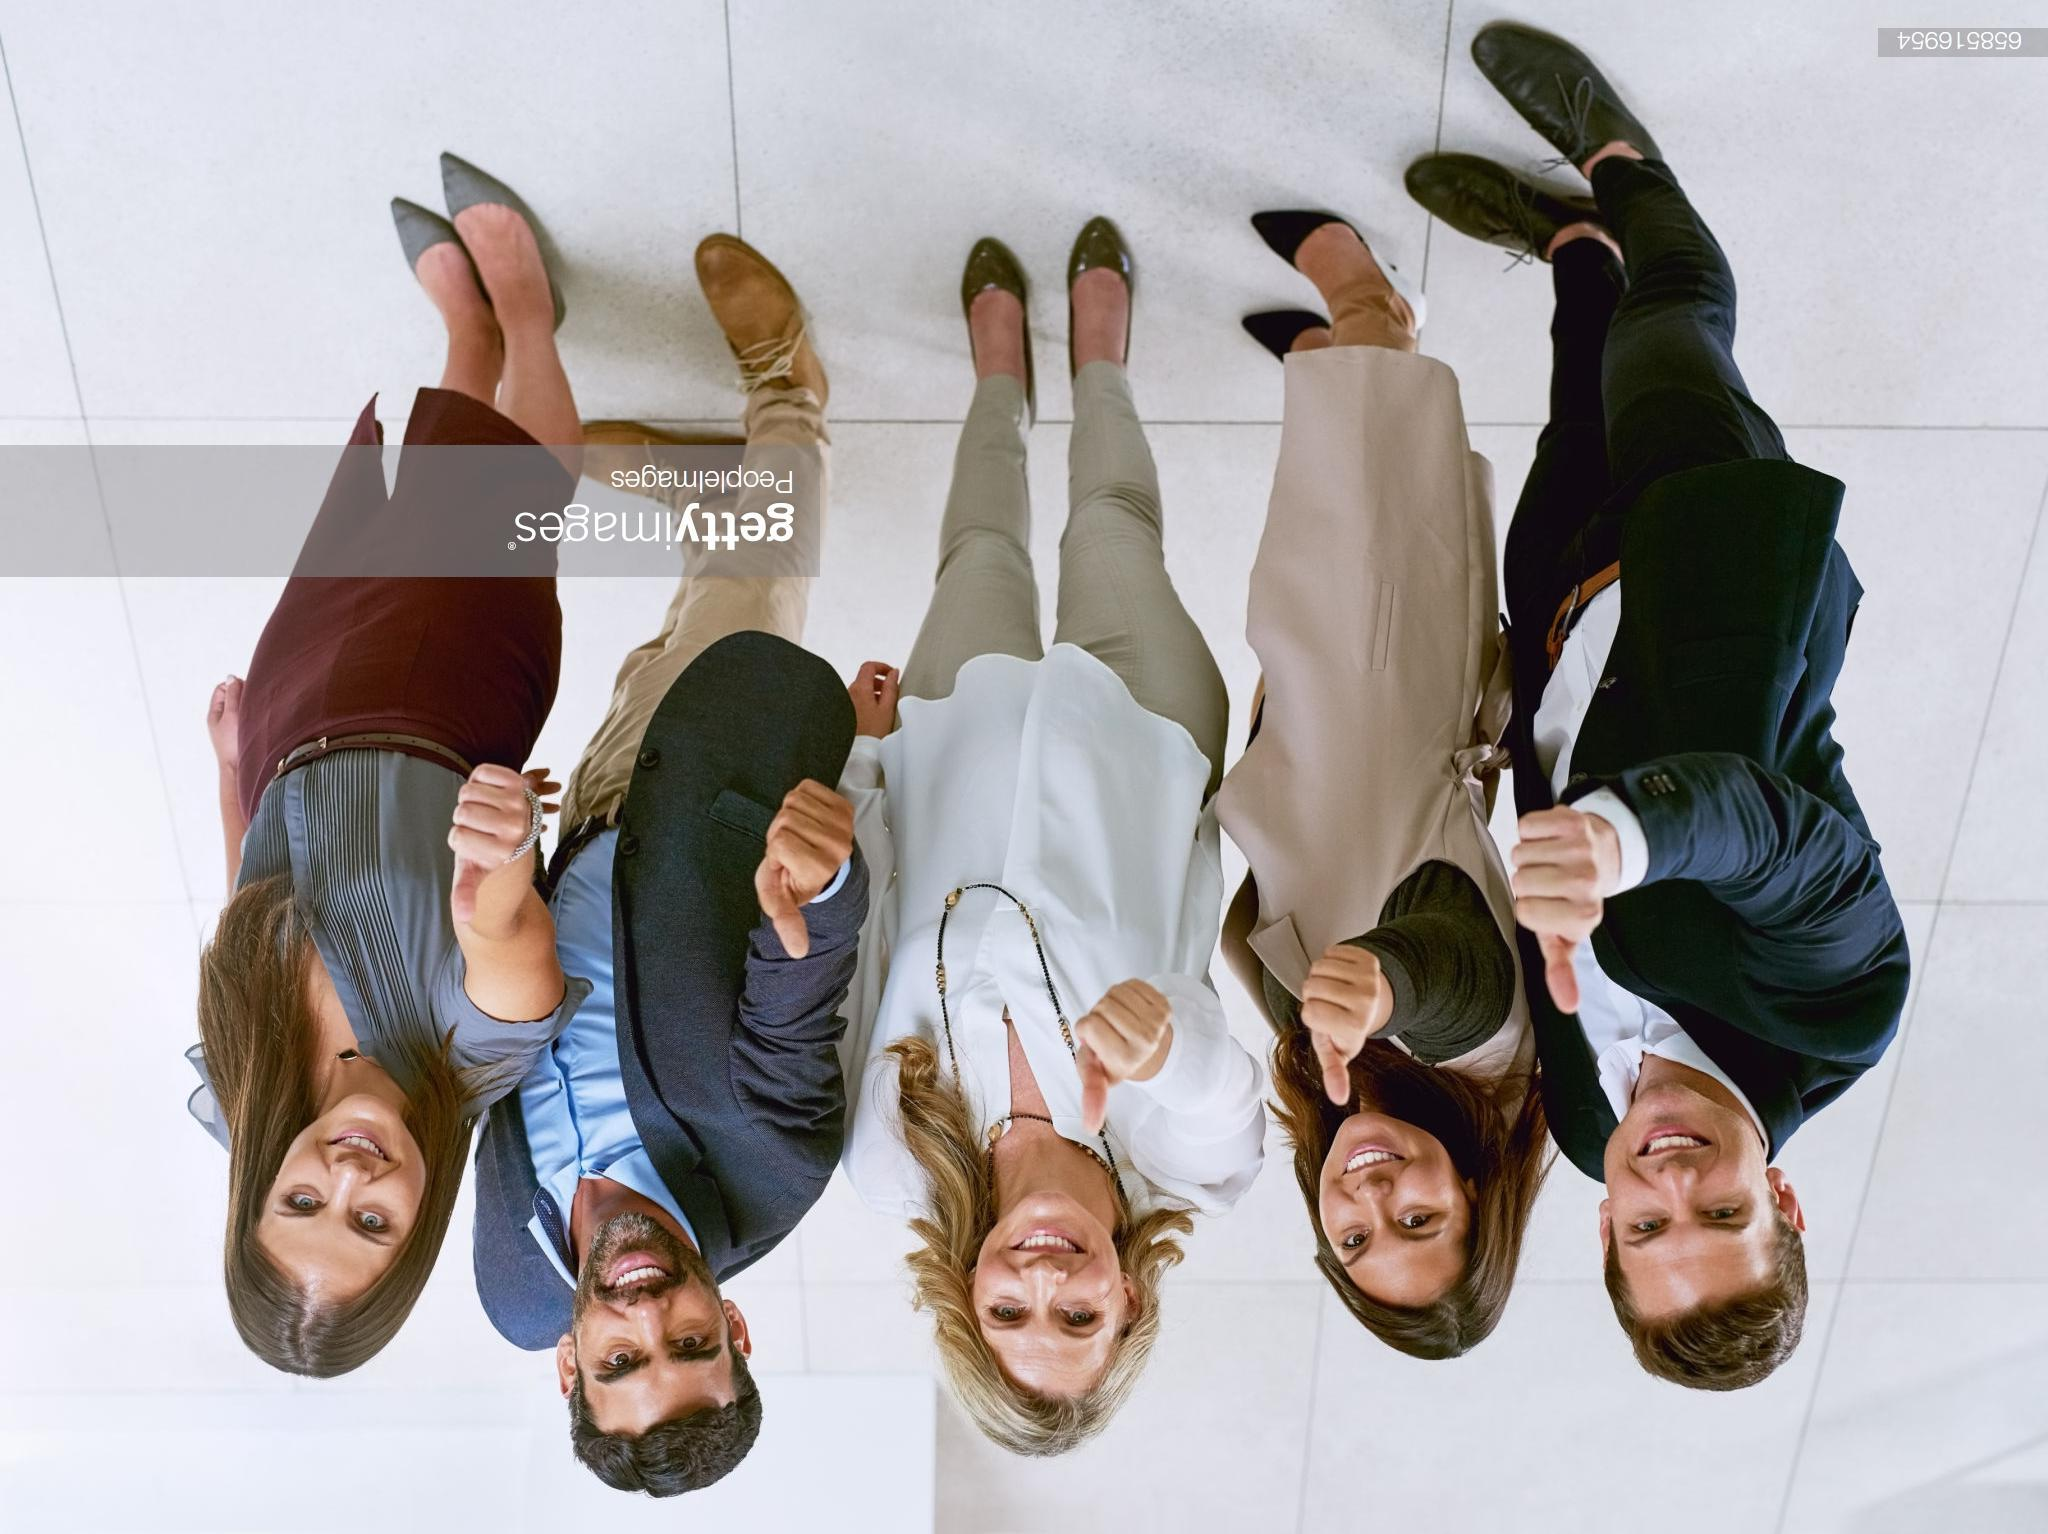thumbsdown: (1510, 806, 1603, 1014), (761, 778, 857, 960), (1073, 980, 1171, 1134), (446, 762, 529, 922), (1300, 944, 1381, 1105)
